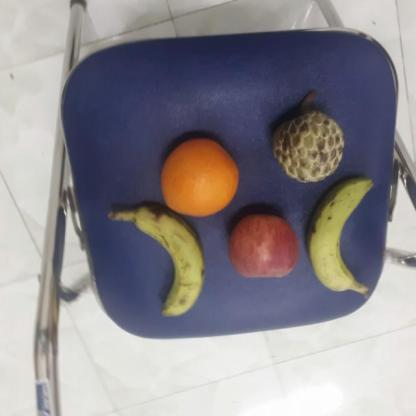annona: (269, 110, 346, 184)
apple: (226, 212, 300, 282)
banana: (125, 203, 216, 321), (304, 176, 377, 297)
orange: (158, 134, 238, 218)
